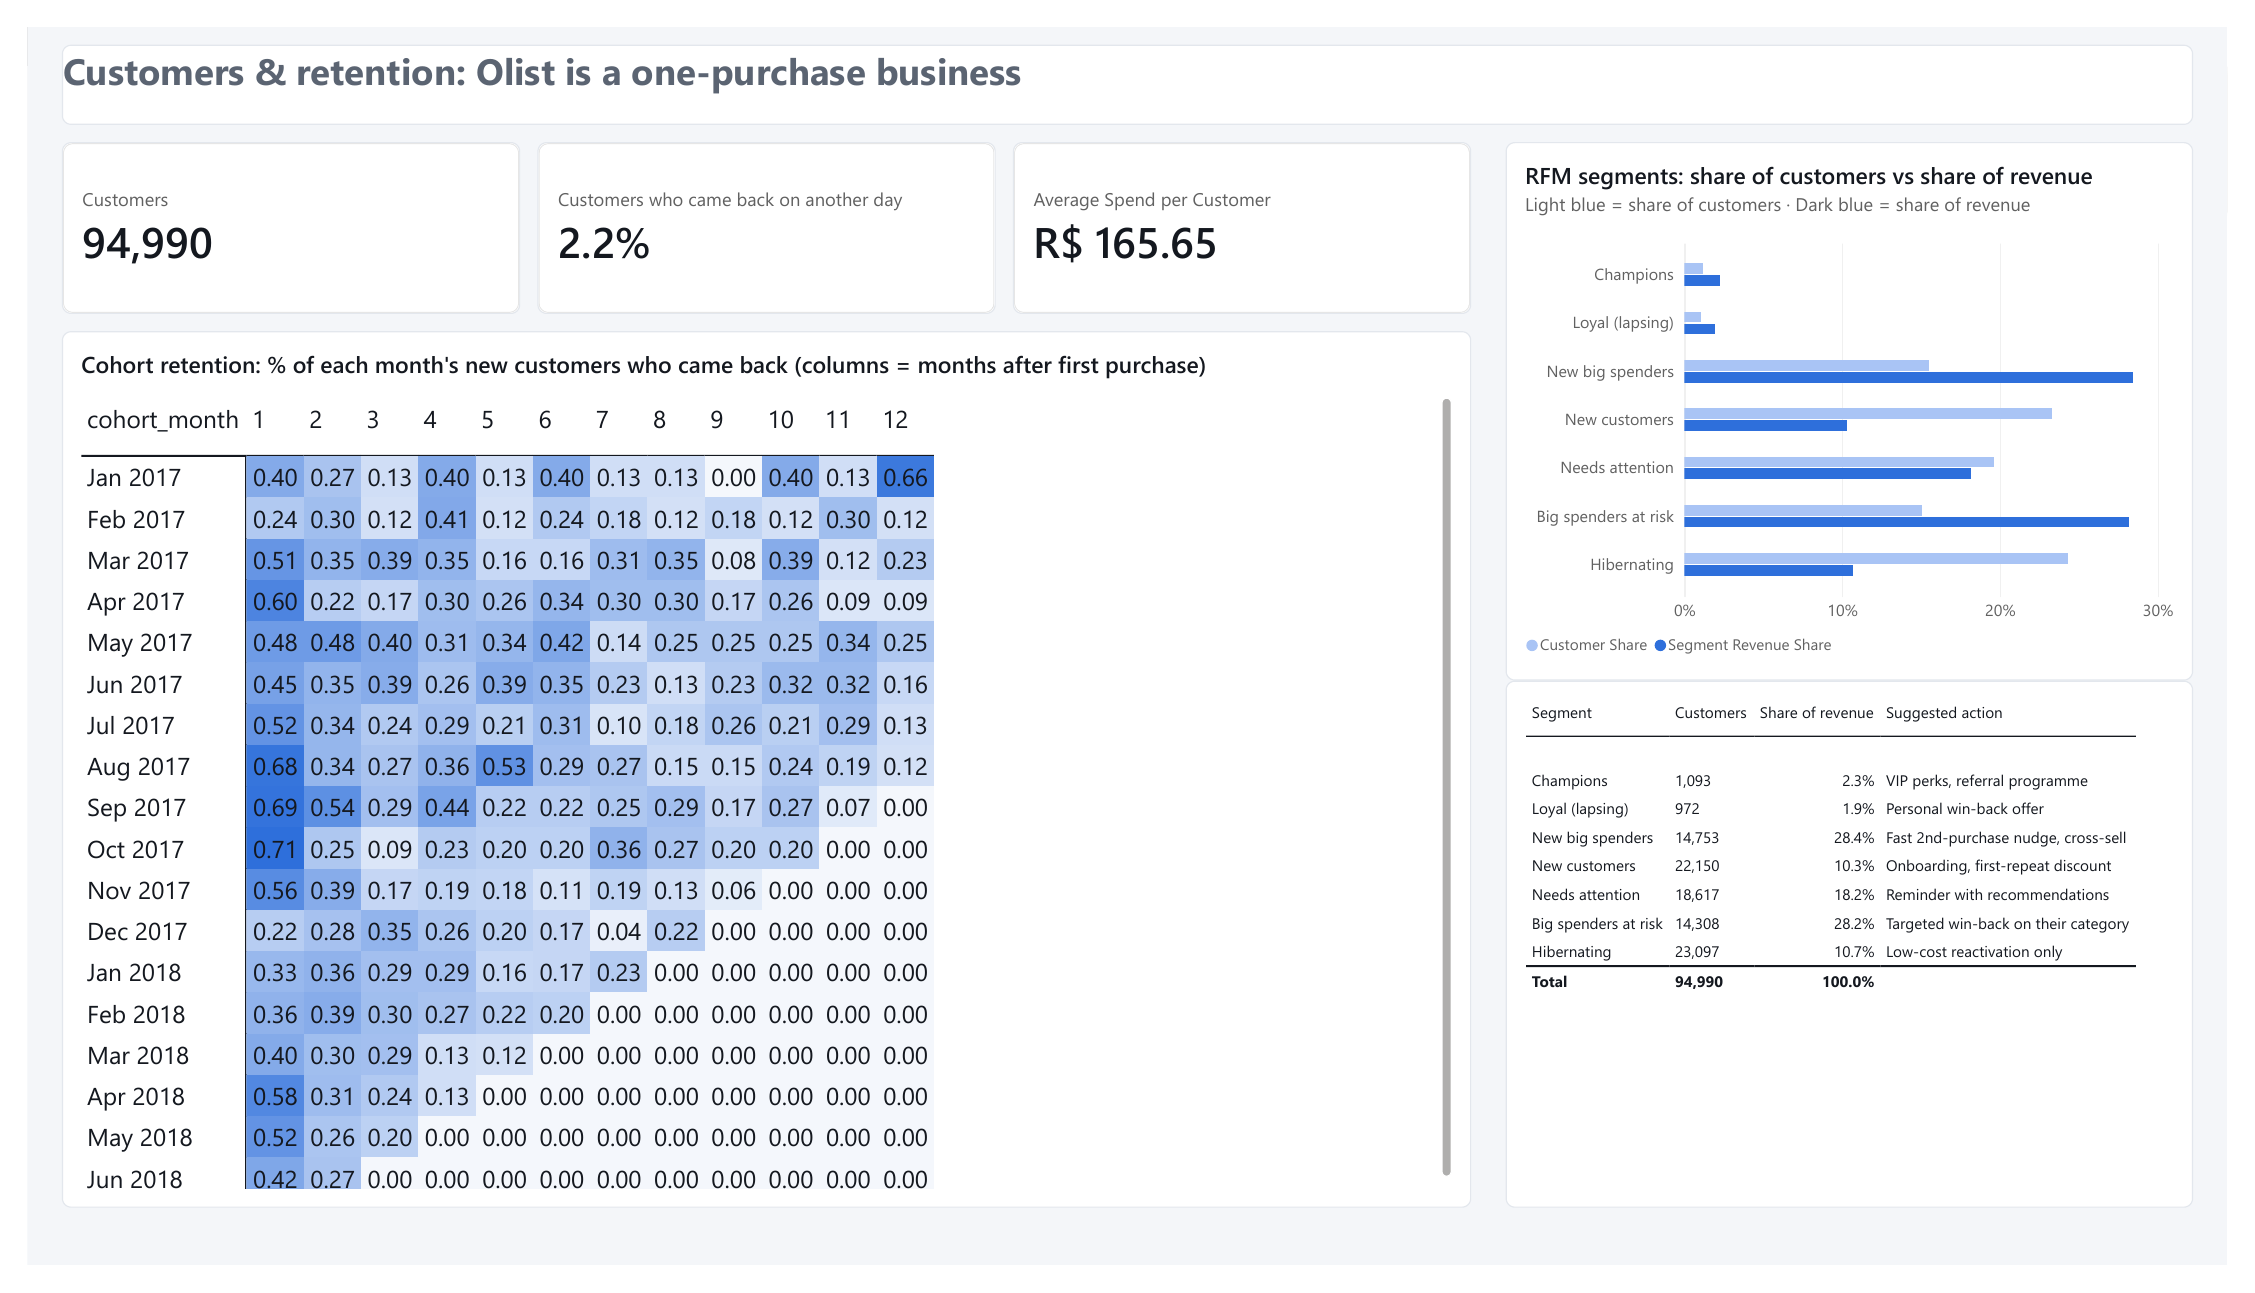

What the dashboard file says about the page in this screenshot:
{"tool":"powerbi","page":{"name":"Customers","canvas":[1920,1080],"ordinal":2},"visuals":[{"type":"cardVisual","fields":{"Data":["_Measures.Customers Full"]},"box":[30,100,400,150],"z":0},{"type":"cardVisual","fields":{"Data":["_Measures.Repeat Rate"]},"box":[445,100,400,150],"z":1},{"type":"cardVisual","fields":{"Data":["_Measures.Average Spend per Customer"]},"box":[860,100,400,150],"z":2},{"type":"pivotTable","title":"Cohort retention: % of each month''s new customers who came back (columns = months after first purchase)","fields":{"Columns":["retention_cohort.months_after"],"Rows":["retention_cohort.cohort_month"],"Values":["Sum(retention_cohort.pct_returned)"]},"box":[30,265,1230,765],"z":3},{"type":"clusteredBarChart","title":"RFM segments: share of customers vs share of revenue","fields":{"Category":["dim_segment.segment"],"Y":["_Measures.Customer Share","_Measures.Segment Revenue Share"]},"box":[1290,100,600,470],"z":4},{"type":"tableEx","fields":{"Values":["dim_segment.segment","_Measures.Customers Full","_Measures.Segment Revenue Share","dim_segment.suggested_action"]},"box":[1290,570,600,460],"z":5},{"type":"textbox","box":[30,15,1860,70],"z":6}]}

Visuals, with their boxes in screenshot pixels (x1, y1, x2, y2), scaled from the page's 1920x1080 canvas onto the 2255x1293 screenshot:
cardVisual - _Measures.Customers Full: rect(35, 120, 505, 299)
cardVisual - _Measures.Repeat Rate: rect(523, 120, 992, 299)
cardVisual - _Measures.Average Spend per Customer: rect(1010, 120, 1480, 299)
"Cohort retention: % of each month''s new customers who came back (columns = months after first purchase)" pivotTable: rect(35, 317, 1480, 1233)
"RFM segments: share of customers vs share of revenue" clusteredBarChart: rect(1515, 120, 2220, 682)
tableEx - dim_segment.segment x _Measures.Customers Full: rect(1515, 682, 2220, 1233)
textbox: rect(35, 18, 2220, 102)
